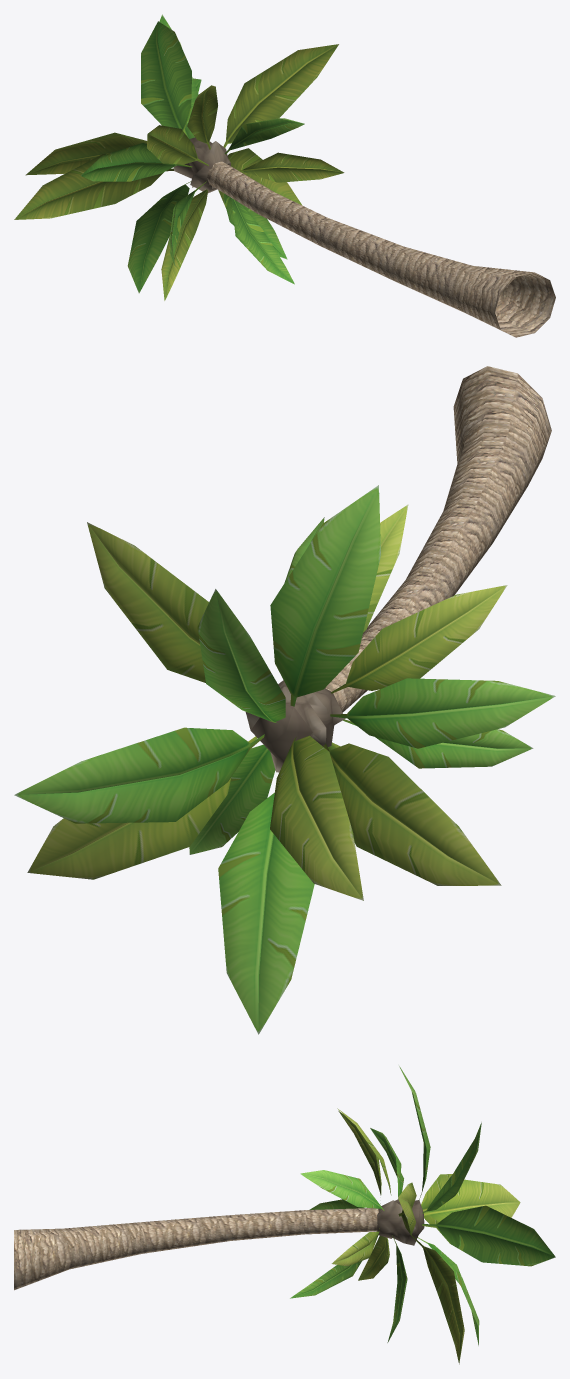
The model's file is Palmtree_B.fbx.
3 views of the same model, one above another, from view 1: azimuth 30°, elevation 25°; view 2: azimuth 150°, elevation 25°; view 3: azimuth 270°, elevation 25° (orthographic). The views are drawn at different scales.
Parts seen in each view (by area): view 1: Palmtree_B; view 2: Palmtree_B; view 3: Palmtree_B.
Boxes of the visible parts, x1,y1,x2,y2 form: Palmtree_B: [14, 14, 555, 337]; Palmtree_B: [14, 366, 555, 1034]; Palmtree_B: [14, 1066, 555, 1364].
Bounding box in the file's own units: 7.81 × 8 × 14.49.
